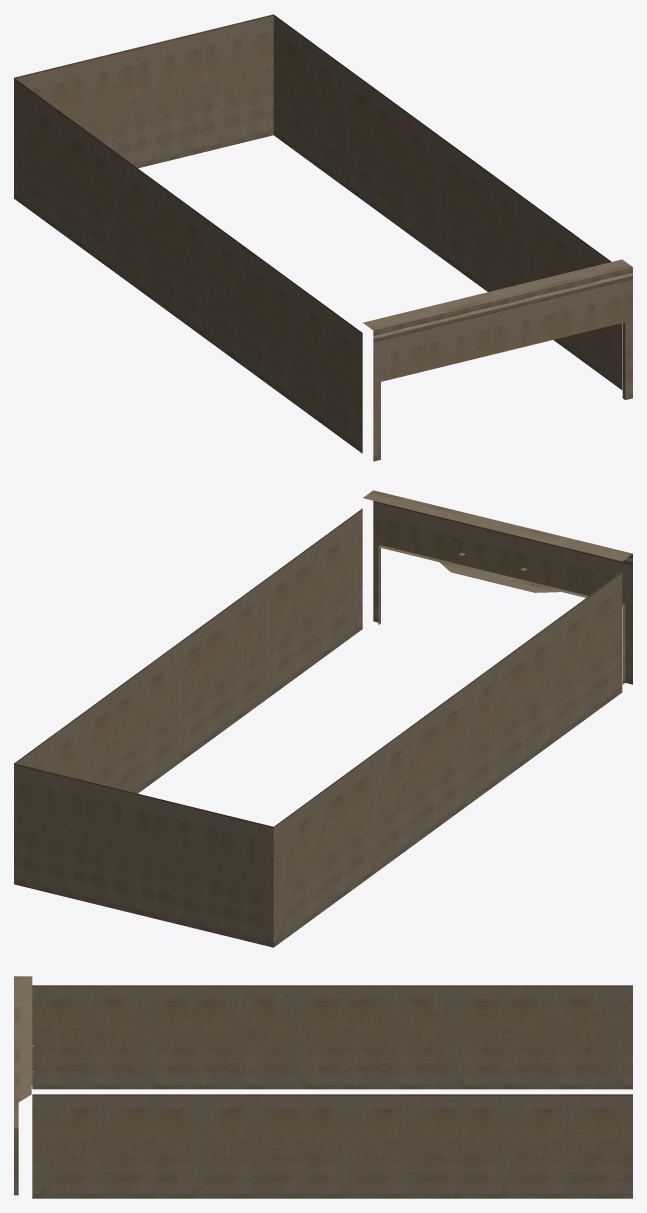
Rendered from rural_storesmall_7_rural_midcity_walls_flr_1_0_lev2.glb.
3 renders of one model, top to bottom at view 1: azimuth 30°, elevation 25°; view 2: azimuth 150°, elevation 25°; view 3: azimuth 270°, elevation 25°, orthographic. The views are drawn at different scales.
Visible parts, largest first — view 1: rural_storesmall_7_rural_midcity_walls_flr_1_0_lev2; view 2: rural_storesmall_7_rural_midcity_walls_flr_1_0_lev2; view 3: rural_storesmall_7_rural_midcity_walls_flr_1_0_lev2.
Boxes of the visible parts, <box> form: rural_storesmall_7_rural_midcity_walls_flr_1_0_lev2: <box>14,14,632,461</box>; rural_storesmall_7_rural_midcity_walls_flr_1_0_lev2: <box>14,490,632,947</box>; rural_storesmall_7_rural_midcity_walls_flr_1_0_lev2: <box>14,976,632,1198</box>.
Size of the model in its own units: 5.93 by 2.86 by 14.2.
1 material, 1 textured.
